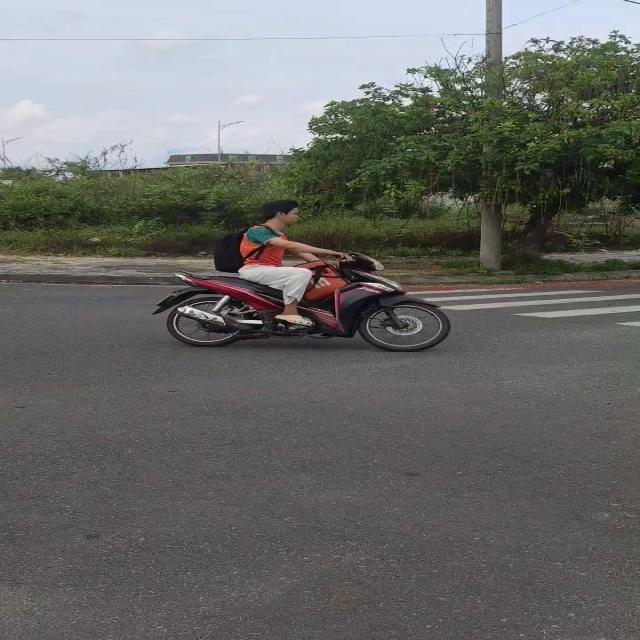no_helmet: (254, 196, 307, 235)
